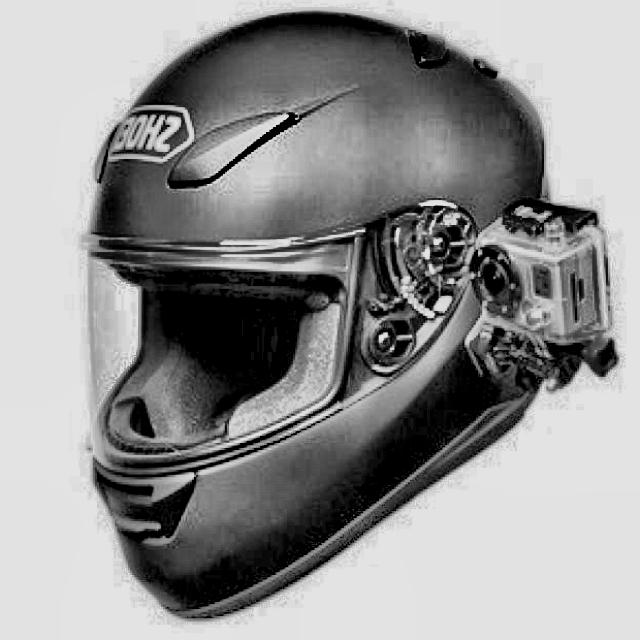Helmet: (78, 0, 624, 635)
